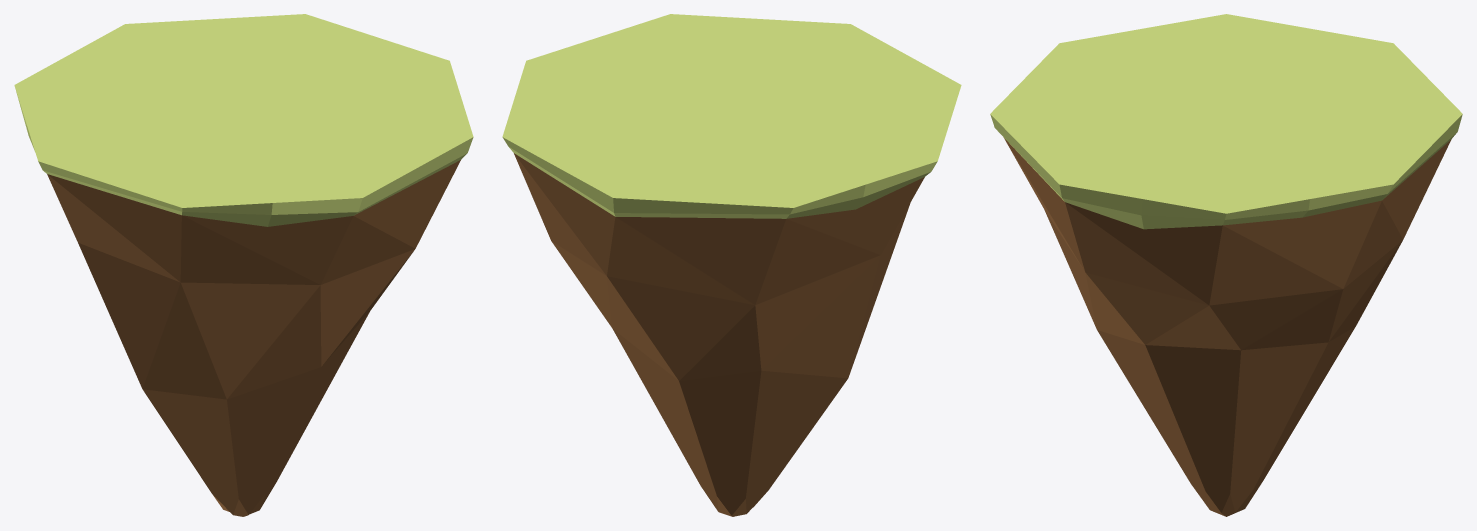
The model's file is IslandSmall.fbx.
3 views of the same model, side by side, from view 1: azimuth 30°, elevation 25°; view 2: azimuth 150°, elevation 25°; view 3: azimuth 270°, elevation 25° (orthographic).
Parts seen in each view (by area): view 1: IslandSmall; view 2: IslandSmall; view 3: IslandSmall.
Boxes of the visible parts, box(x1,y1,x2,y2) form: IslandSmall: box(14, 14, 473, 516); IslandSmall: box(502, 14, 961, 516); IslandSmall: box(990, 14, 1462, 516).
Bounding box in the file's own units: 200 × 188 × 200.
